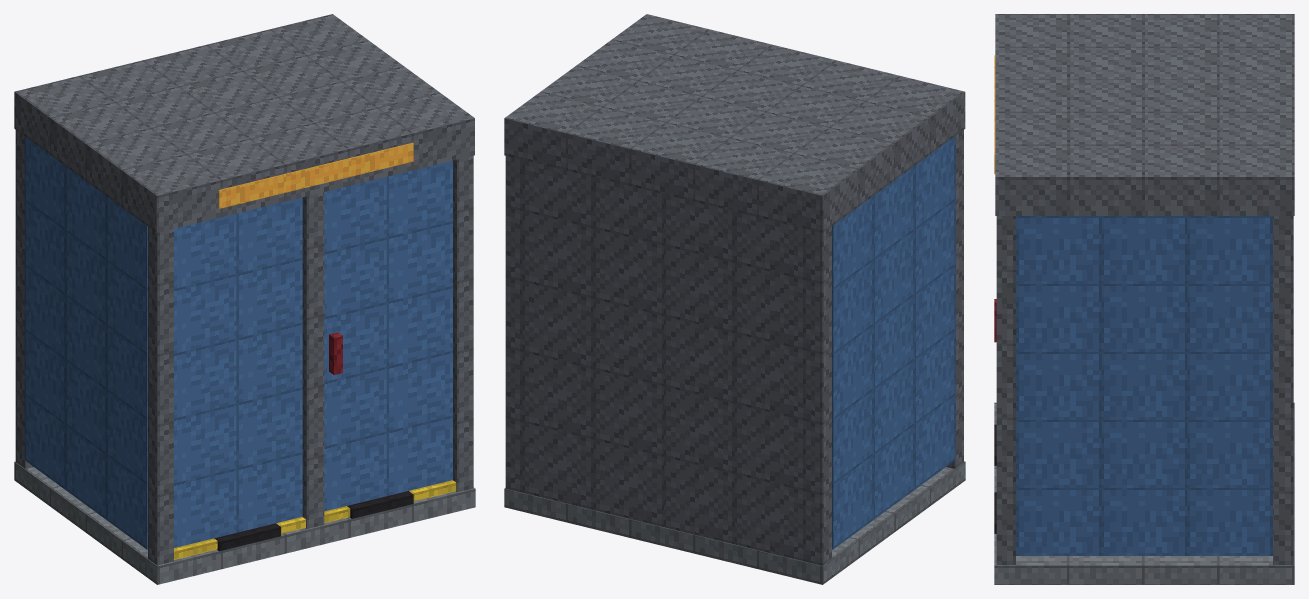
File: containmentCell.glb
3 views of the same model, side by side, from view 1: azimuth 30°, elevation 25°; view 2: azimuth 150°, elevation 25°; view 3: azimuth 270°, elevation 25° (orthographic). The views are drawn at different scales.
Parts seen in each view (by area): view 1: containmentCell_0; view 2: containmentCell_0; view 3: containmentCell_0.
Part boxes in pixels (box(x1,y1,x2,y2)): containmentCell_0: box(14, 14, 475, 584); containmentCell_0: box(504, 14, 965, 584); containmentCell_0: box(994, 14, 1294, 584).
Bounding box in the file's own units: 2.25 × 2.62 × 1.75.
1 material, 1 textured.
